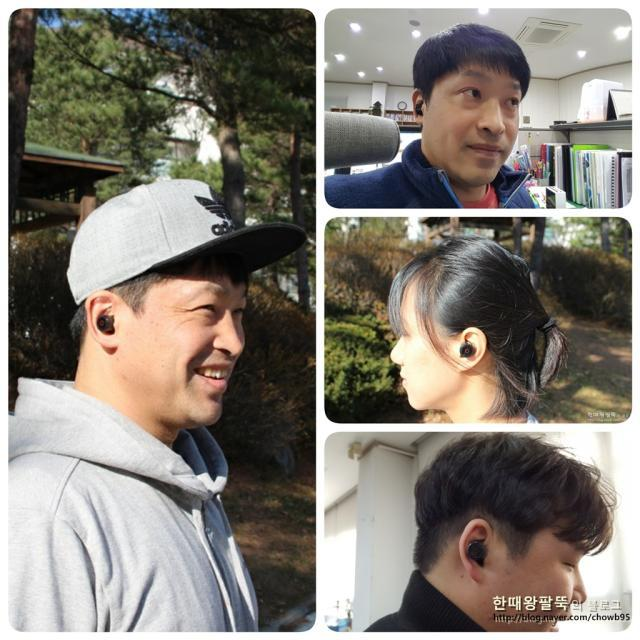earphone: (78, 297, 138, 348), (452, 342, 503, 378), (466, 522, 494, 582), (402, 99, 443, 129)
